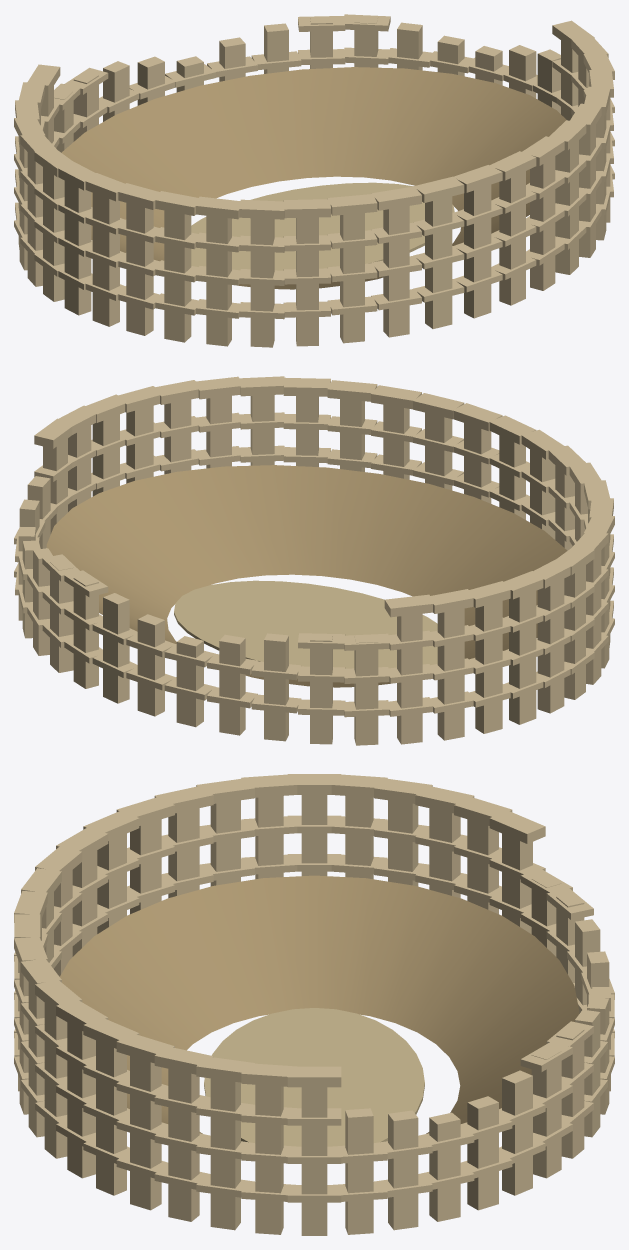
3 views of the same model, one above another, from view 1: azimuth 30°, elevation 25°; view 2: azimuth 150°, elevation 25°; view 3: azimuth 270°, elevation 25° (orthographic). The views are drawn at different scales.
Bounding box in the file's own units: 195 × 48 × 163.
